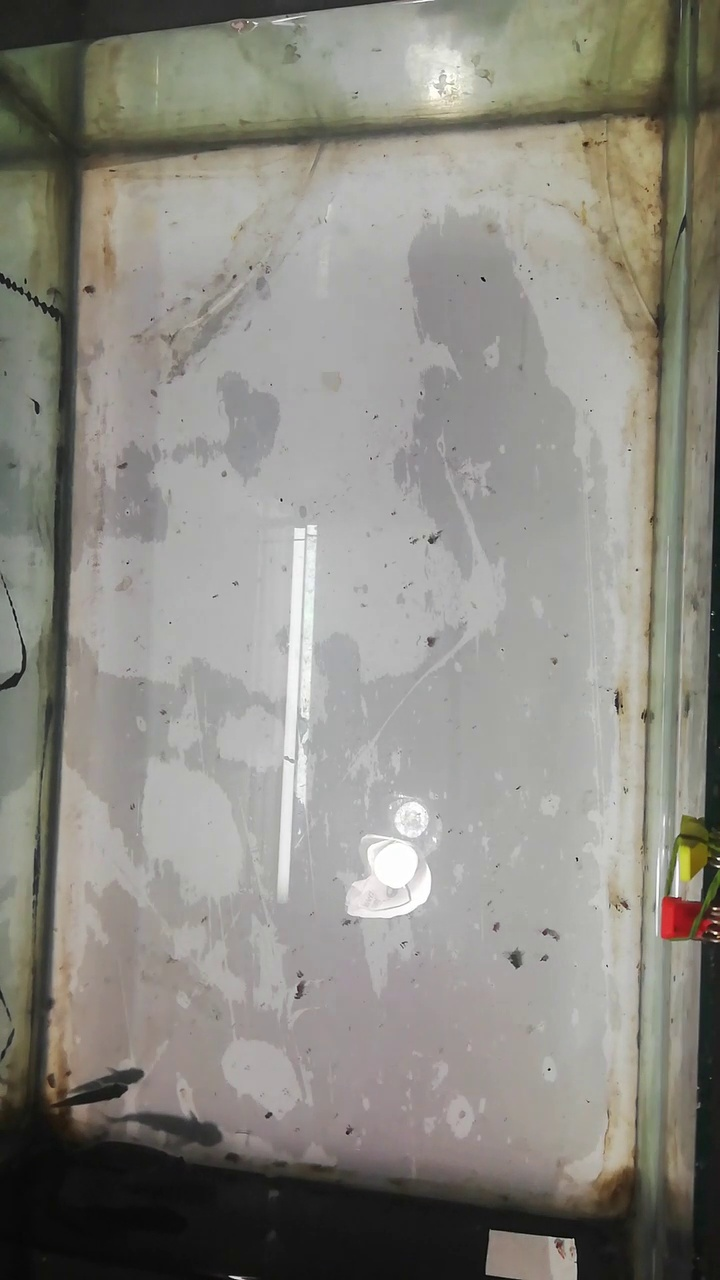fish1: (112, 1108, 224, 1153)
fish2: (56, 1073, 129, 1108)
